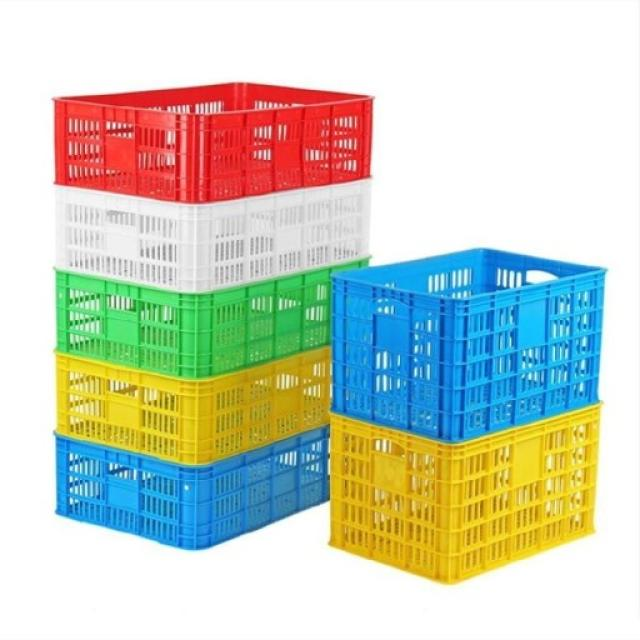basket: (328, 243, 606, 448), (331, 405, 601, 584), (54, 80, 375, 204), (53, 172, 371, 297), (55, 259, 371, 382), (52, 419, 330, 555), (55, 345, 335, 470)
